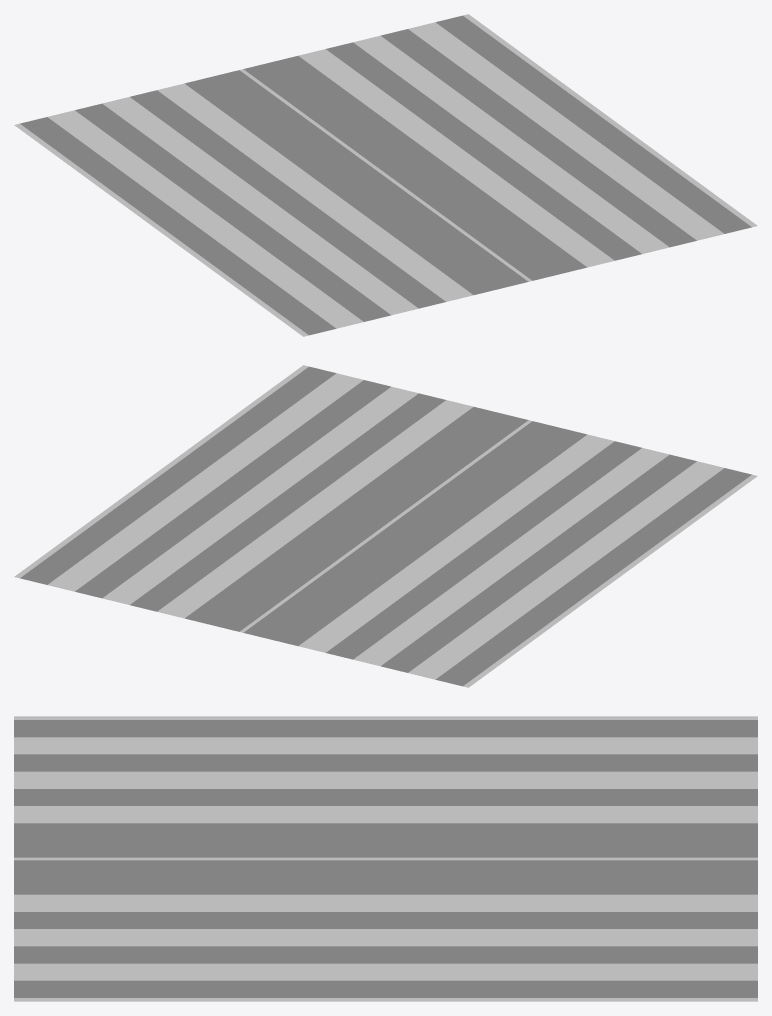
The model's file is APRunwayA.fbx.
3 views of the same model, one above another, from view 1: azimuth 30°, elevation 25°; view 2: azimuth 150°, elevation 25°; view 3: azimuth 270°, elevation 25° (orthographic). The views are drawn at different scales.
Parts seen in each view (by area): view 1: APRunwayA; view 2: APRunwayA; view 3: APRunwayA.
Part boxes in pixels (left/top/right/bottom): APRunwayA: left=14, top=14, right=757, bottom=336; APRunwayA: left=14, top=365, right=757, bottom=687; APRunwayA: left=14, top=716, right=757, bottom=1001.
Size of the model in its own units: 3900 by 2.15e-13 by 4300.
1 material, 1 textured.
